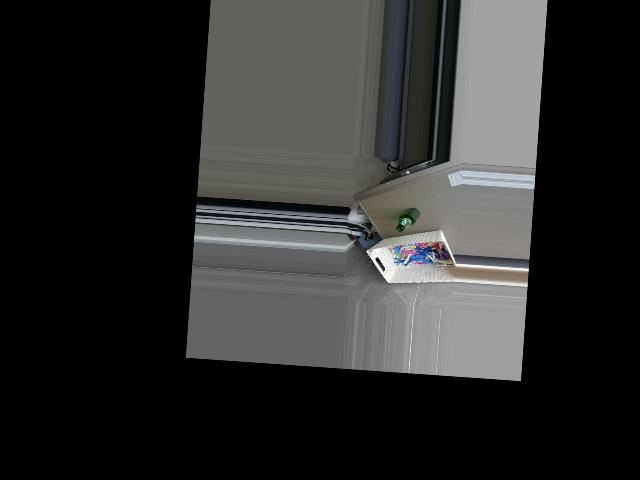beer: (395, 206, 419, 232)
